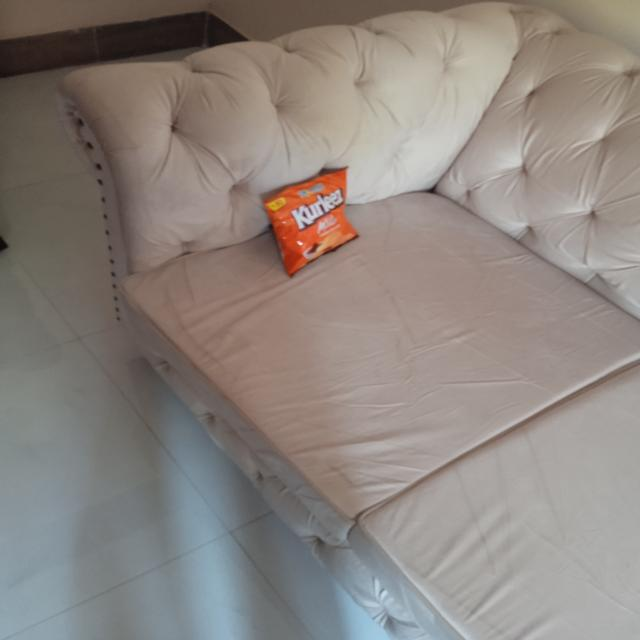Plastic: (262, 164, 366, 278)
